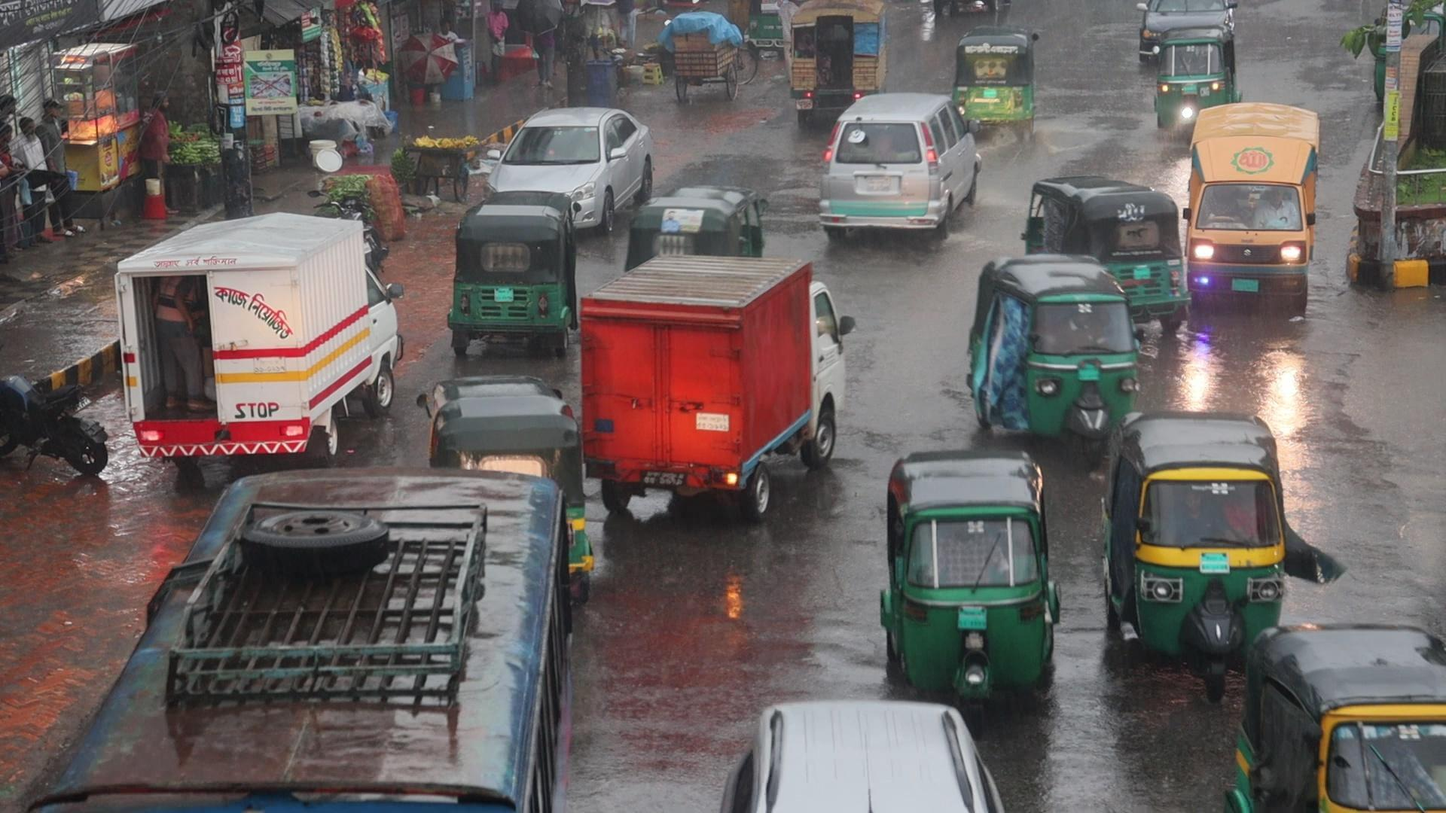Bus: (8, 449, 580, 813)
Car: (814, 90, 983, 248)
Truck: (574, 251, 852, 521)
